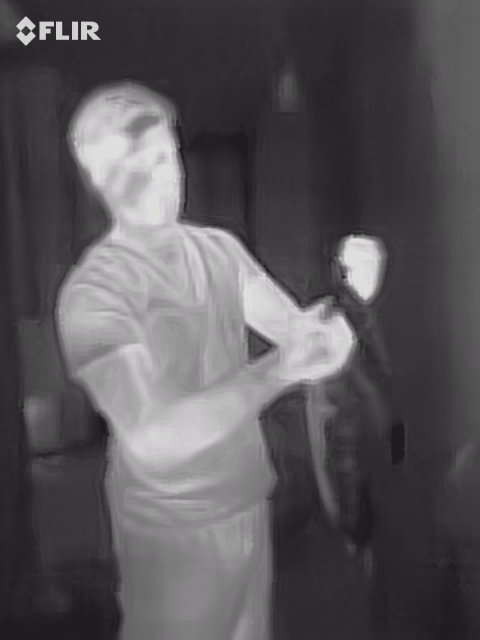head: (66, 80, 186, 222)
